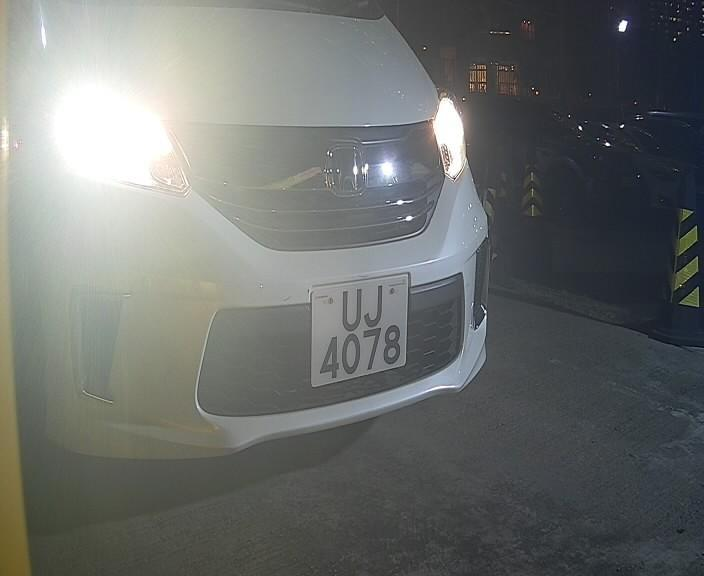License Plate: (302, 260, 412, 399)
